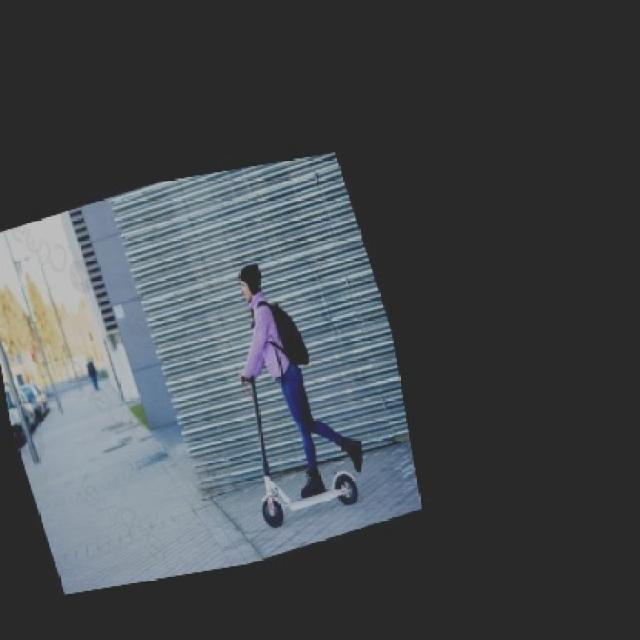bare_head: (226, 262, 276, 297)
human: (220, 256, 367, 478)
kickboard: (240, 470, 358, 523)
